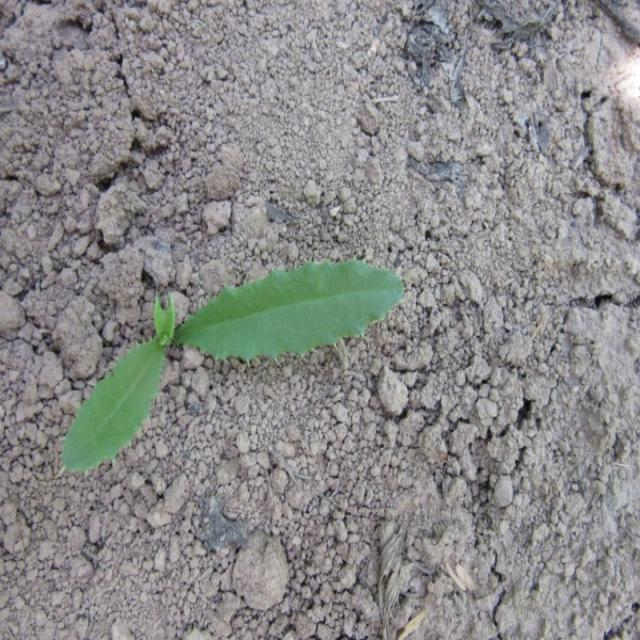field_thistle: (36, 234, 412, 479)
